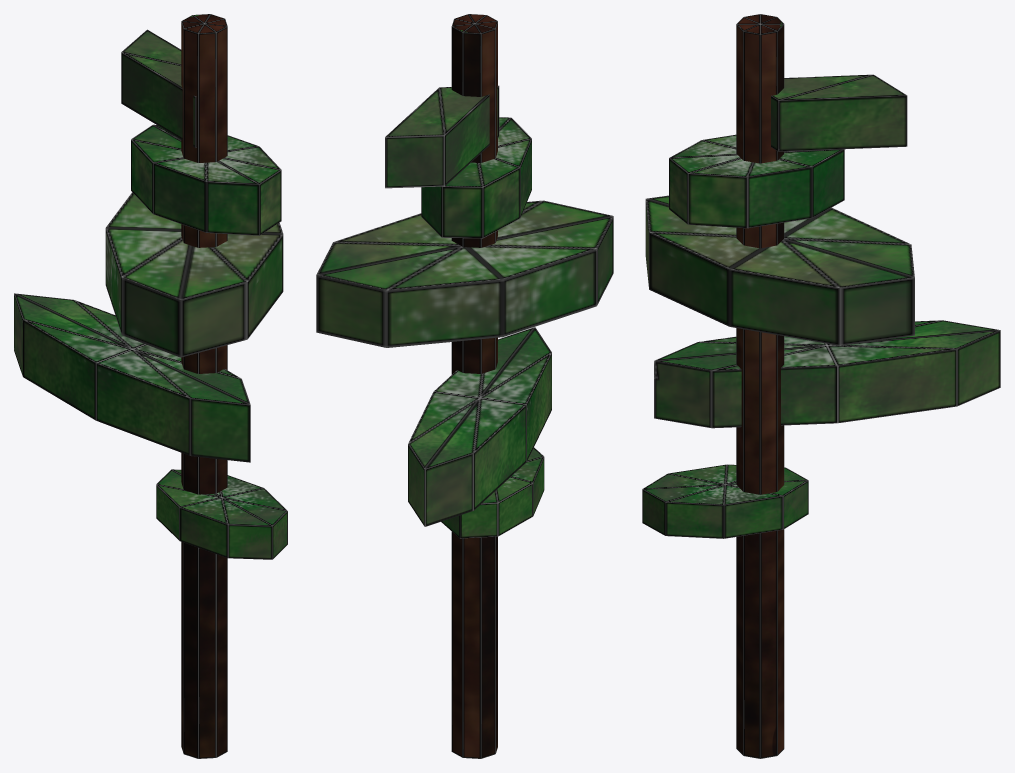
The model's file is TREE_4.fbx.
3 views of the same model, side by side, from view 1: azimuth 30°, elevation 25°; view 2: azimuth 150°, elevation 25°; view 3: azimuth 270°, elevation 25° (orthographic).
Parts seen in each view (by area): view 1: pCylinder14, pCylinder13, trunk3, pCylinder17, pCylinder18, pCylinder16; view 2: pCylinder13, pCylinder14, trunk3, pCylinder16, pCylinder17, pCylinder18; view 3: pCylinder13, trunk3, pCylinder14, pCylinder17, pCylinder16, pCylinder18.
Part boxes in pixels (x1=…): pCylinder14: x1=14, y1=293, x2=250, y2=462; pCylinder13: x1=105, y1=192, x2=283, y2=357; trunk3: x1=181, y1=14, x2=227, y2=758; pCylinder17: x1=131, y1=124, x2=281, y2=235; pCylinder18: x1=156, y1=469, x2=287, y2=559; pCylinder16: x1=121, y1=29, x2=196, y2=147; pCylinder13: x1=316, y1=200, x2=613, y2=347; pCylinder14: x1=408, y1=327, x2=551, y2=526; trunk3: x1=451, y1=14, x2=497, y2=758; pCylinder16: x1=385, y1=85, x2=499, y2=188; pCylinder17: x1=421, y1=117, x2=531, y2=238; pCylinder18: x1=441, y1=447, x2=544, y2=538; pCylinder13: x1=645, y1=195, x2=914, y2=345; trunk3: x1=736, y1=14, x2=784, y2=758; pCylinder14: x1=654, y1=320, x2=1000, y2=428; pCylinder17: x1=669, y1=134, x2=844, y2=228; pCylinder16: x1=771, y1=74, x2=907, y2=151; pCylinder18: x1=642, y1=464, x2=808, y2=538.
Size of the model in its own units: 2.95 by 10 by 4.48.
Materials: 2 (2 with a texture image).
